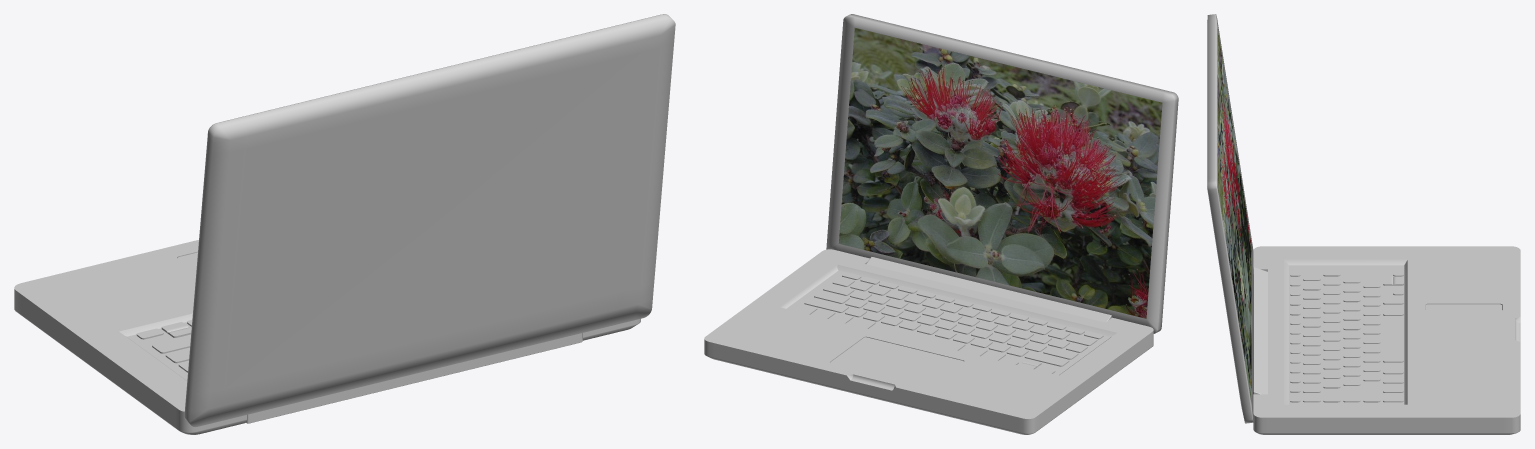
The model's file is rod.glb.
The picture shows the model from 3 angles, left to right: view 1: azimuth 30°, elevation 25°; view 2: azimuth 150°, elevation 25°; view 3: azimuth 270°, elevation 25°; orthographic projection. The views are drawn at different scales.
Visible parts, largest first — view 1: Cube.002_Cube.009, Cube.004, Cube.007_Cube.005, Cube.001, Cube.035, Cube.005_Cube.006; view 2: Cube.004, Cube.007_Cube.005, Cube.005_Cube.006, Cube.001, Cube.035; view 3: Cube.007_Cube.005, Cube.005_Cube.006, Cube.004, Cube.035, Cube.001.
Part boxes in pixels (x1,y1,x2,y2): Cube.002_Cube.009: (226, 52, 642, 387); Cube.004: (184, 14, 675, 426); Cube.007_Cube.005: (14, 240, 640, 434); Cube.001: (246, 333, 582, 423); Cube.035: (91, 334, 186, 396); Cube.005_Cube.006: (136, 320, 192, 372); Cube.004: (826, 14, 1178, 333); Cube.007_Cube.005: (704, 249, 1153, 434); Cube.005_Cube.006: (794, 272, 1103, 373); Cube.001: (866, 257, 1111, 322); Cube.035: (759, 260, 1137, 379); Cube.007_Cube.005: (1253, 246, 1520, 434); Cube.005_Cube.006: (1290, 267, 1403, 402); Cube.004: (1207, 14, 1253, 423); Cube.035: (1288, 247, 1403, 416); Cube.001: (1253, 267, 1267, 394).
Bounding box in the file's own units: 0.3669 × 0.2524 × 0.2826.
Materials: 10 (1 with a texture image).
